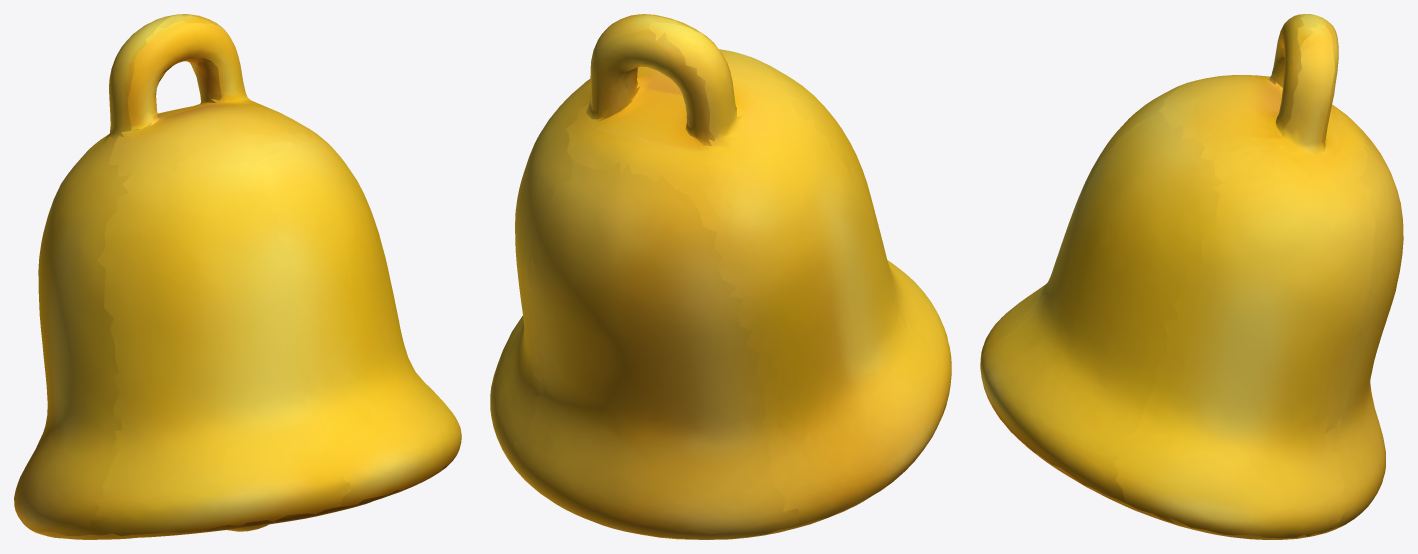
The model's file is bell-lux3d.glb.
3 views of the same model, side by side, from view 1: azimuth 30°, elevation 25°; view 2: azimuth 150°, elevation 25°; view 3: azimuth 270°, elevation 25° (orthographic). The views are drawn at different scales.
Visible parts, largest first — view 1: geometry_0; view 2: geometry_0; view 3: geometry_0.
Part boxes in pixels (x1=…): geometry_0: x1=14, y1=14, x2=461, y2=539; geometry_0: x1=490, y1=14, x2=951, y2=539; geometry_0: x1=980, y1=14, x2=1403, y2=539.
Bounding box in the file's own units: 0.0831 × 0.095 × 0.0788.
1 material, 1 textured.
